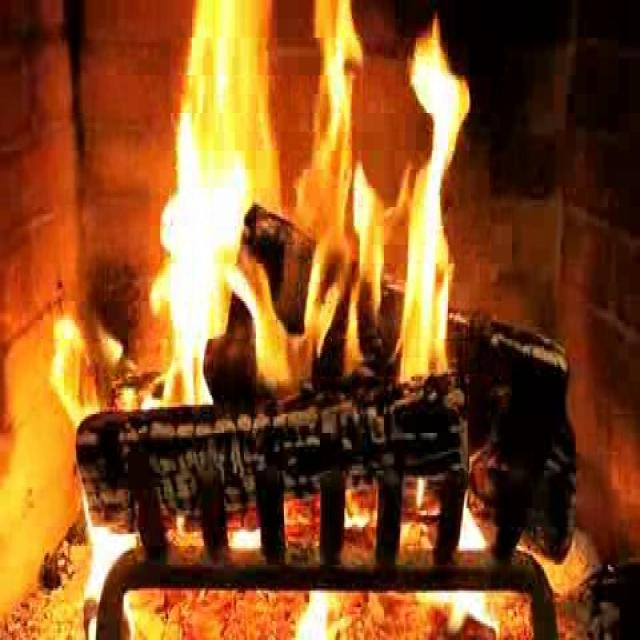fire: (158, 10, 460, 412)
